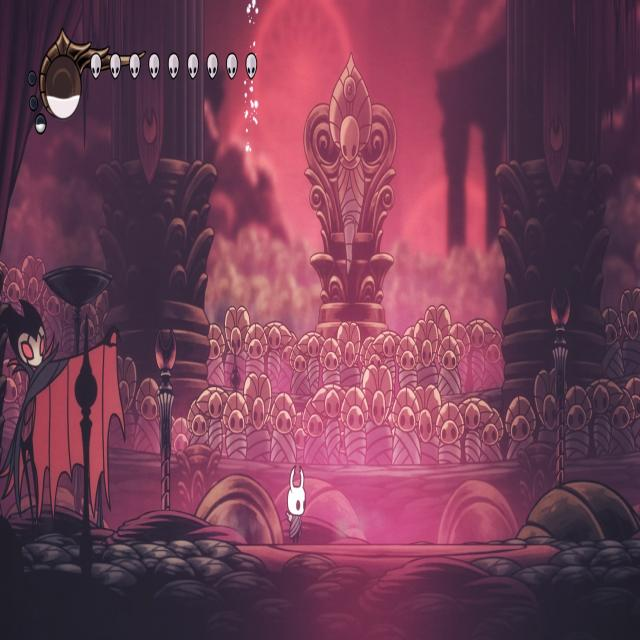Open Cloak: (0, 287, 127, 545)
Player: (283, 461, 308, 548)
